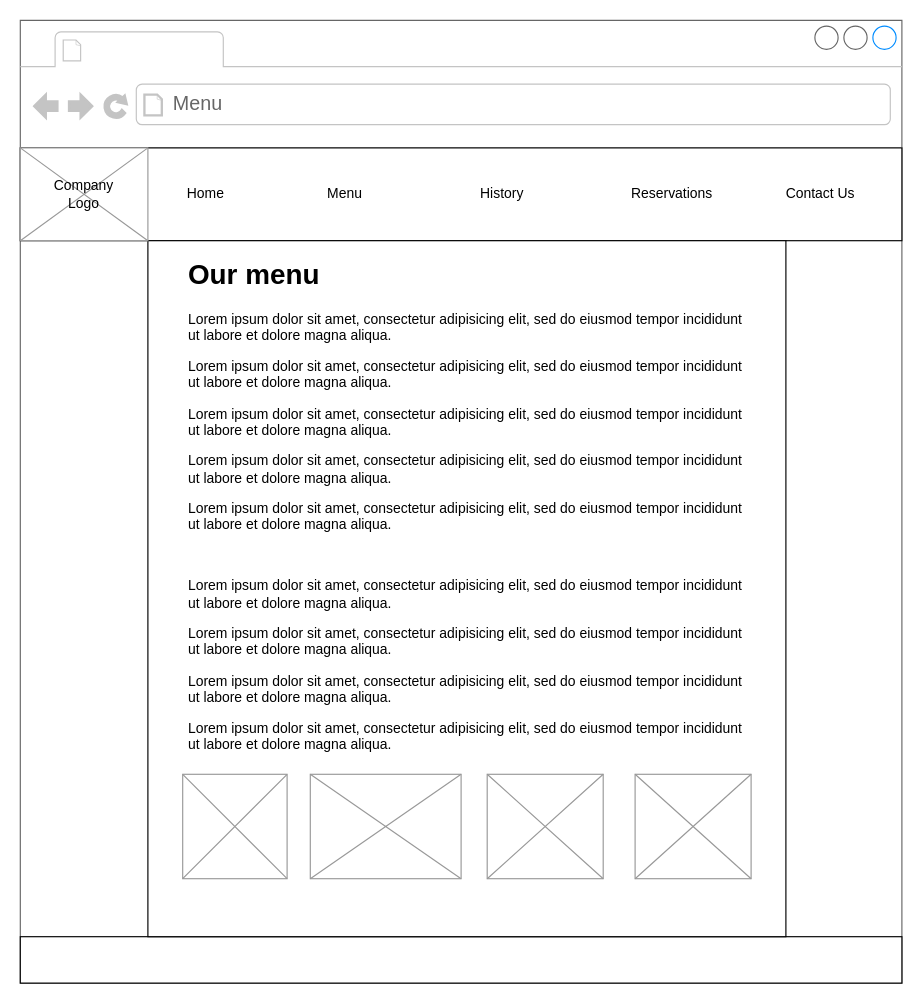
The diagram is 922 pixels wide and 1003 high, and some of its shapes have lost their labels. The box of each missing label's shape, as (x1, y1, x2, y2) in pixels:
Company phone # . Address .: (19, 936, 902, 983)
Page 1: (89, 33, 217, 64)
